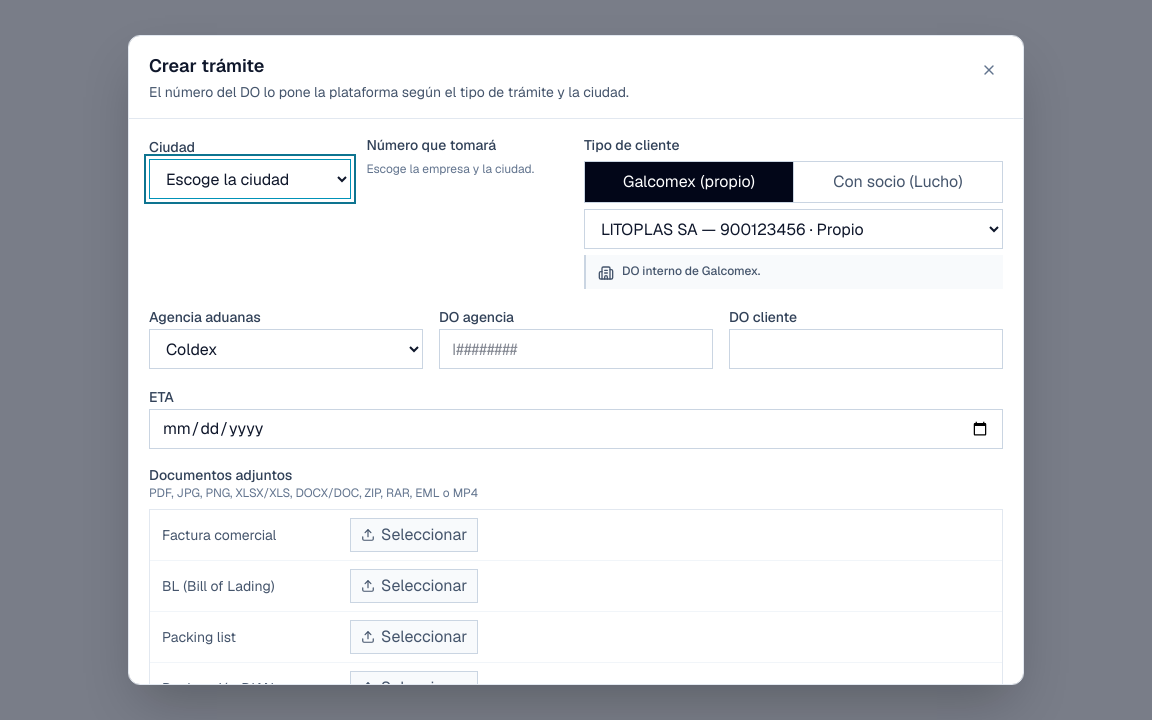
Test case: Crear DO — D1 tarifa vigente › no muestra el panel ni deshabilita el envío cuando la tarifa cumple
Step 1. Select "LITOPLAS SA — 900123456 · Propio" in the dropdown named "clienteId" → (794, 229), box x1=584 y1=209 x2=1003 y2=249
(page scrolled)
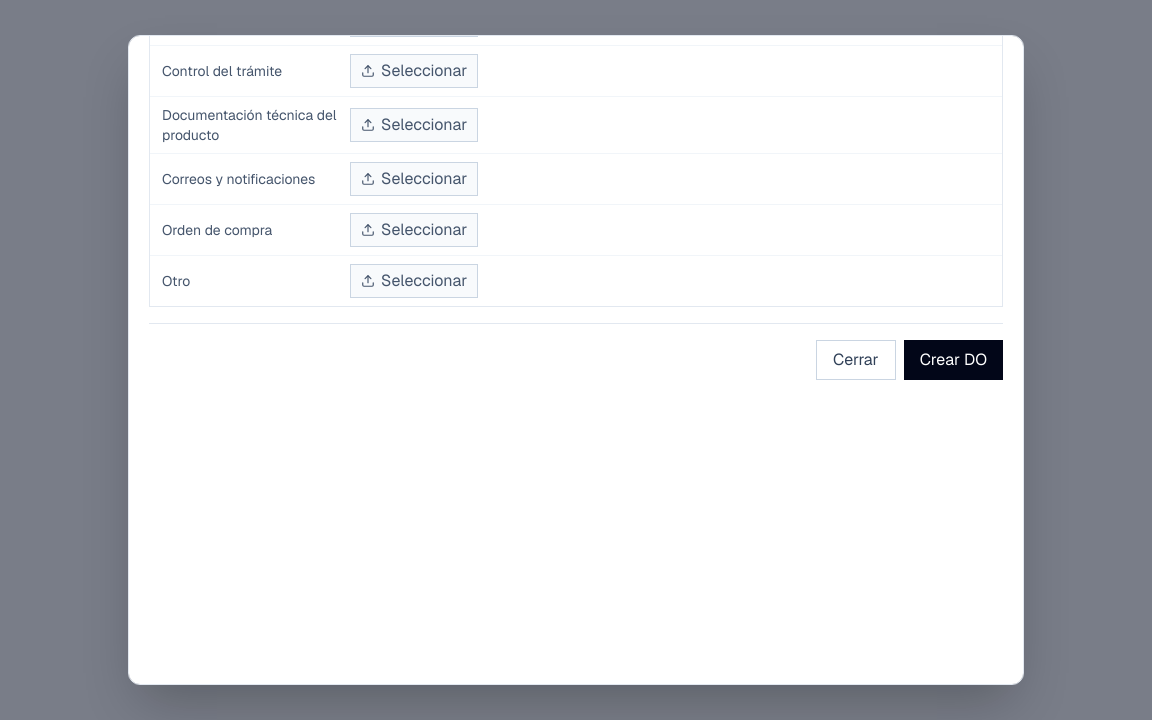
Result: the submit button is enabled at x1=904 y1=340 x2=1003 y2=380
